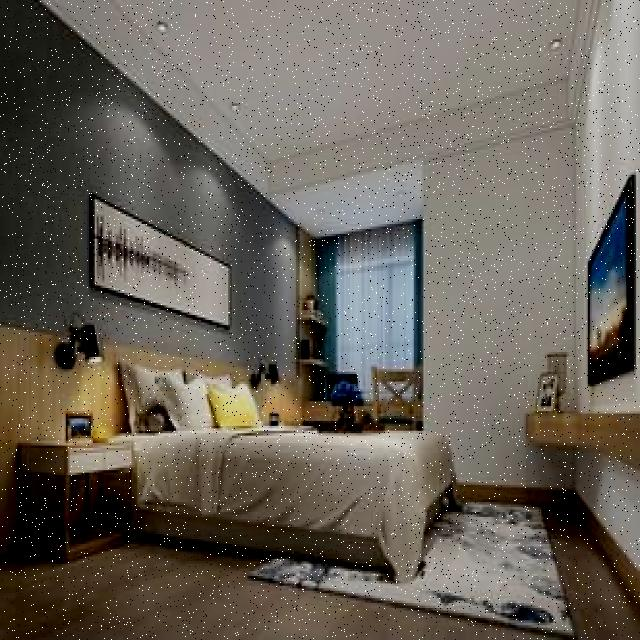bed: (115, 360, 459, 586)
